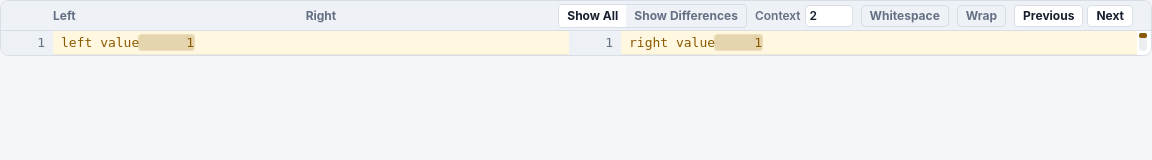
Scenario: TextDiffPanel › toggles visible markers for spaces and tabs
The width and height of the screenshot is (1152, 160).
Click the button with test id "text-diff-toggle-whitespace" at coordinates (905, 16), box left=861, top=4, right=949, bottom=26
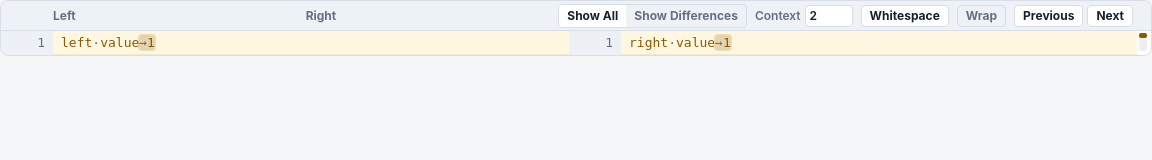
Expected: the 1st text "·" is shown, left=92, top=35, right=100, bottom=50
Now the 1st text "→" is shown, box left=139, top=35, right=147, bottom=50
